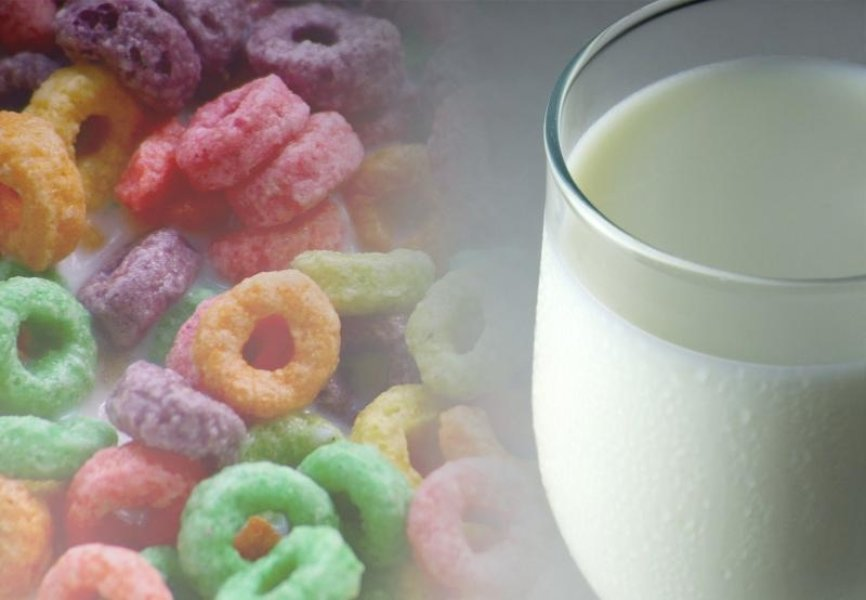glass of milk: (531, 11, 866, 600)
